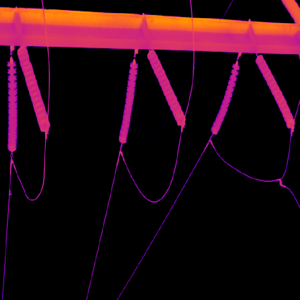insulator: (146, 46, 185, 126), (254, 53, 295, 128), (17, 46, 50, 130), (210, 61, 239, 130), (118, 58, 138, 143), (6, 56, 17, 153)
